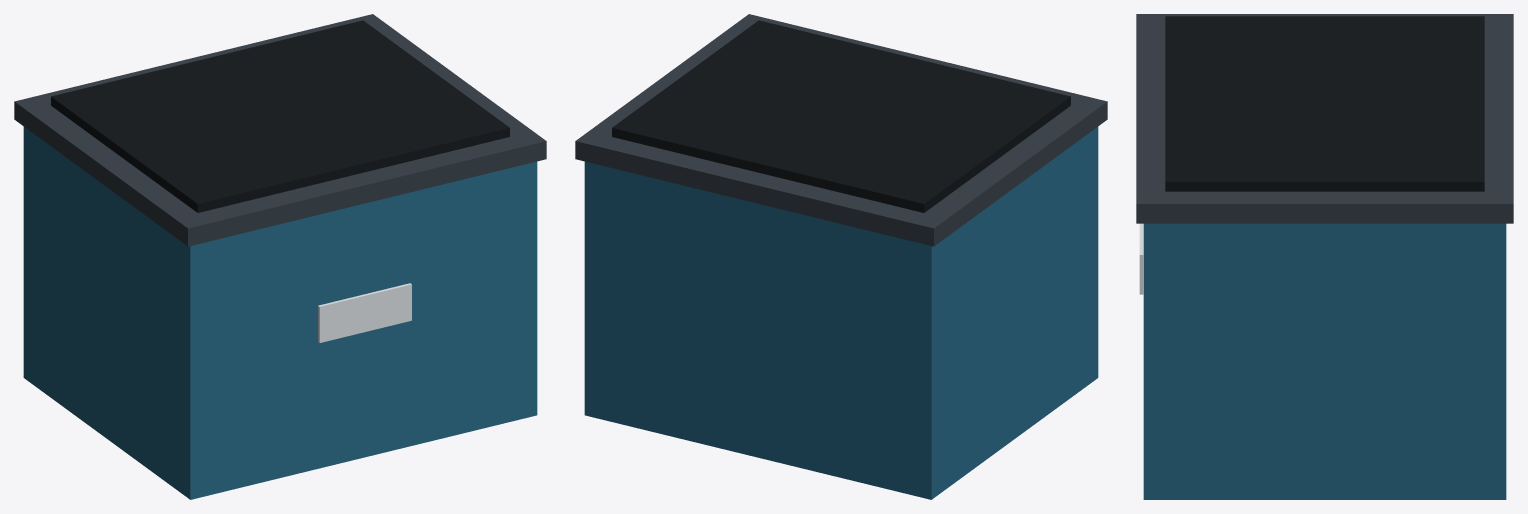
The picture shows the model from 3 angles, left to right: view 1: azimuth 30°, elevation 25°; view 2: azimuth 150°, elevation 25°; view 3: azimuth 270°, elevation 25°; orthographic projection. The views are drawn at different scales.
Parts seen in each view (by area): view 1: bin, opening, bin:lip, label:bin; view 2: bin, opening, bin:lip; view 3: bin, opening, bin:lip.
Part boxes in pixels (<box>): bin: <box>23,126,537,499</box>; opening: <box>51,20,509,212</box>; bin:lip: <box>14,14,546,246</box>; label:bin: <box>318,283,411,342</box>; bin: <box>584,126,1098,499</box>; opening: <box>612,20,1070,212</box>; bin:lip: <box>575,14,1107,246</box>; bin: <box>1143,223,1506,499</box>; opening: <box>1165,16,1484,191</box>; bin:lip: <box>1136,14,1513,223</box>.
Bounding box in the file's own units: 0.62 × 0.47 × 0.52.
